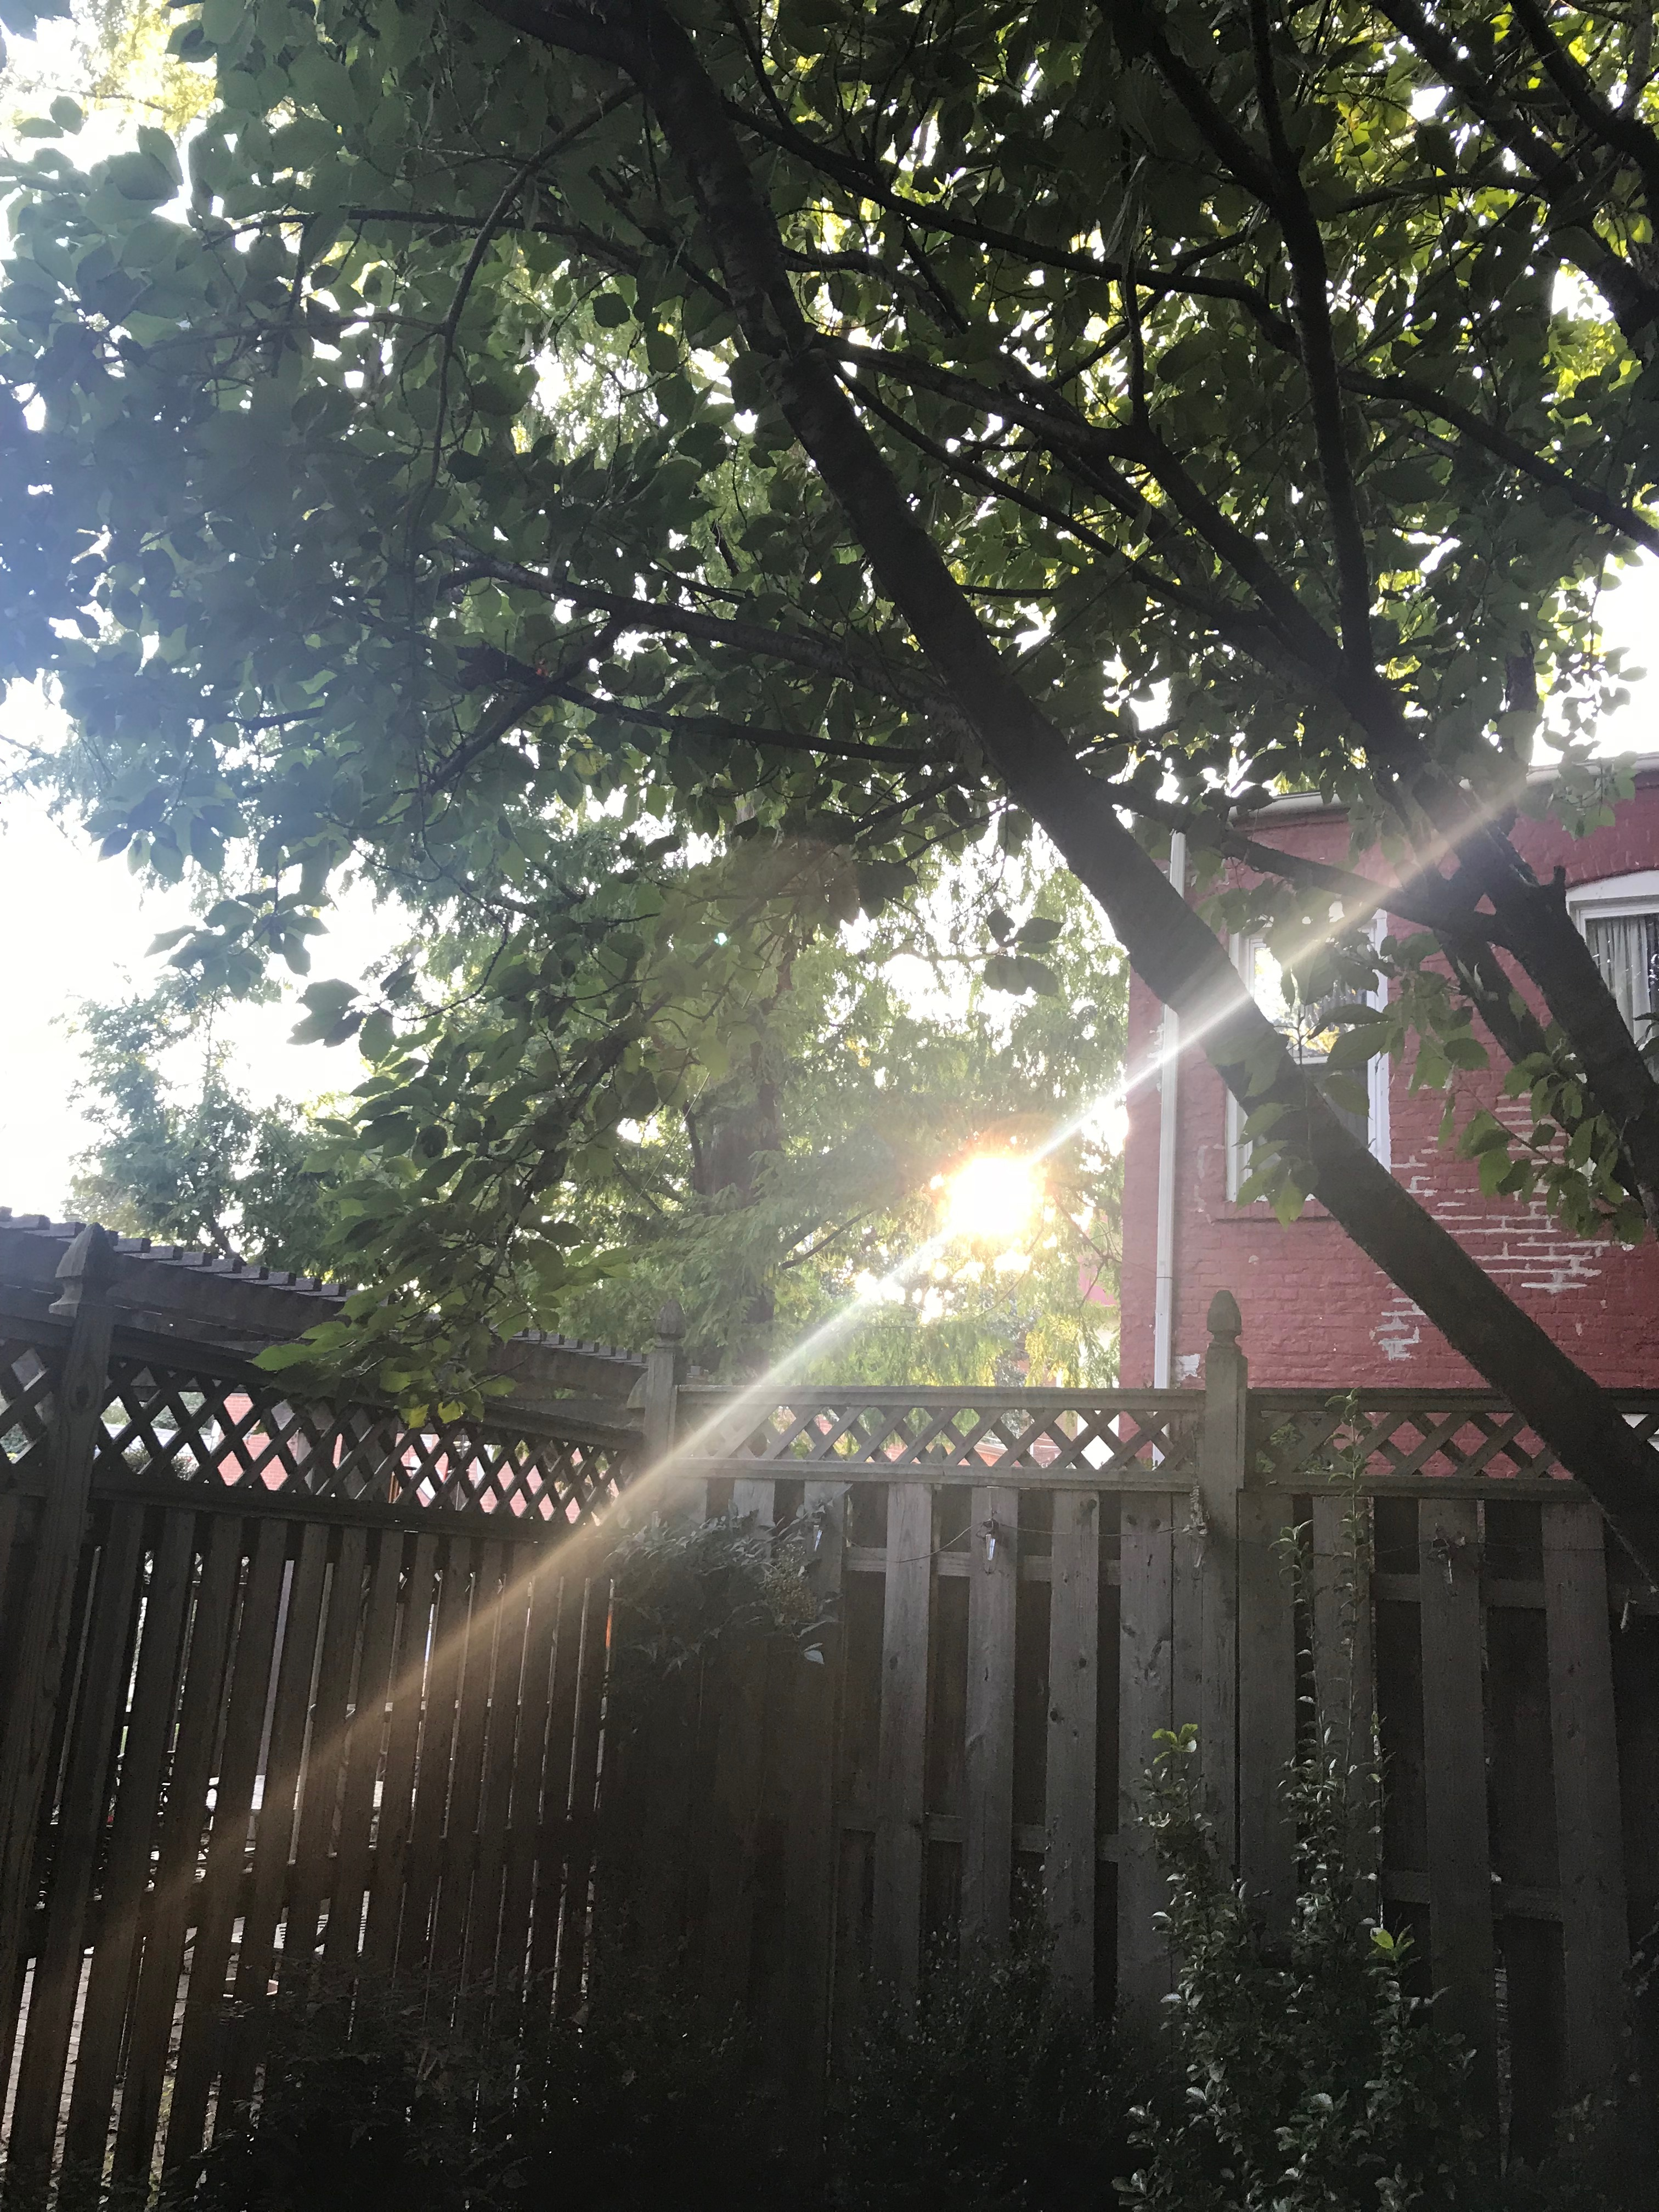flare: (713, 930, 730, 948)
